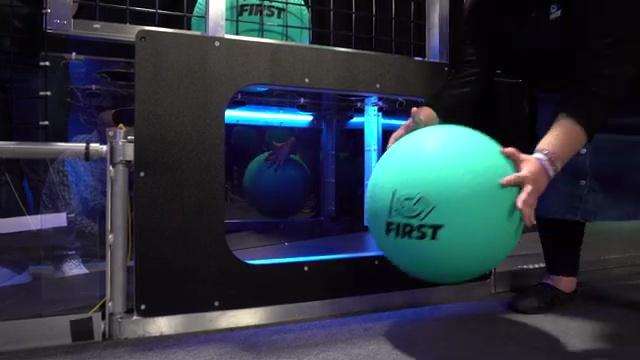ALGAE: (364, 122, 525, 284), (191, 0, 312, 43)
